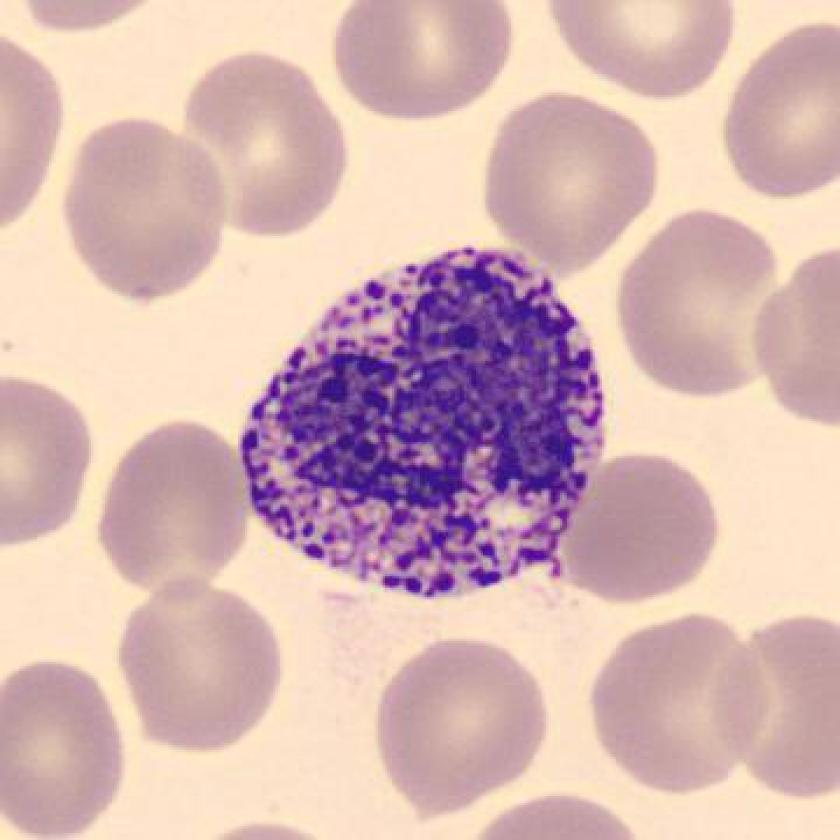basophil: (246, 239, 605, 598)
